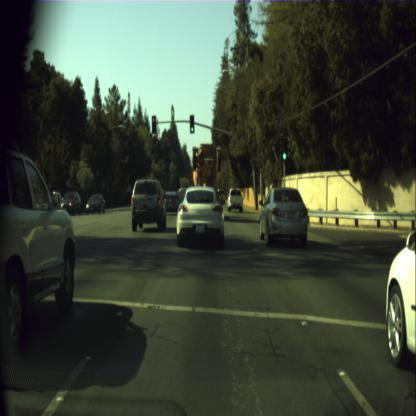Green: (281, 138, 287, 160), (189, 115, 194, 134)
Red: (151, 115, 156, 133)
